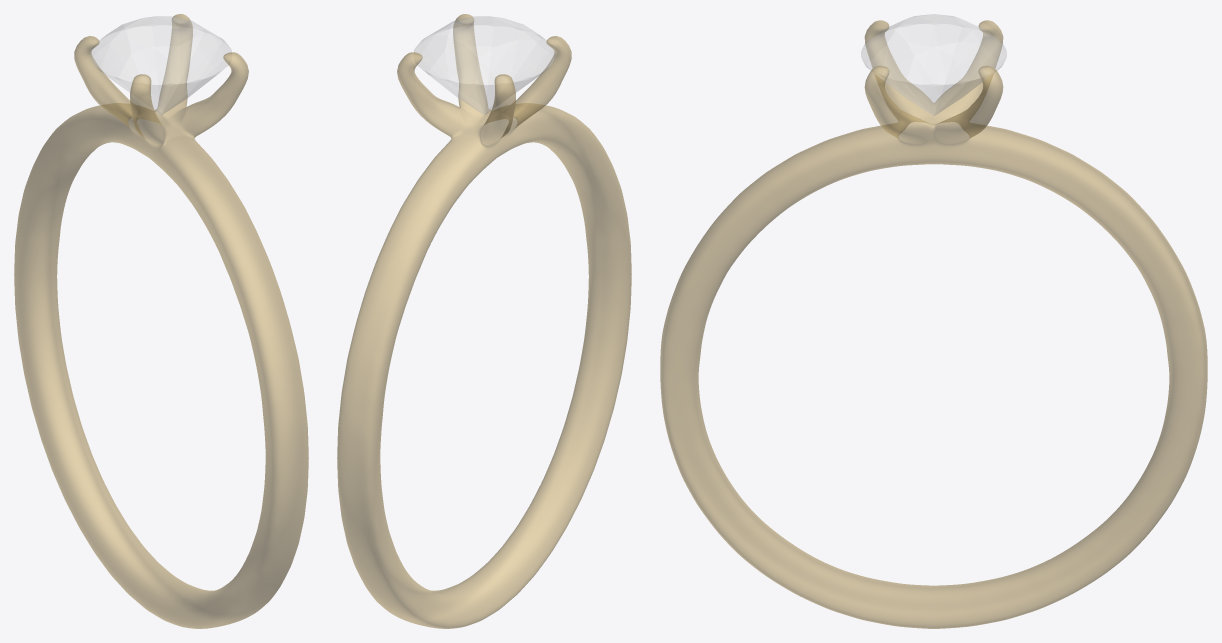
The picture shows the model from 3 angles, left to right: view 1: azimuth 30°, elevation 25°; view 2: azimuth 150°, elevation 25°; view 3: azimuth 270°, elevation 25°; orthographic projection. The views are drawn at different scales.
Parts seen in each view (by area): view 1: Ring, Diamond; view 2: Ring, Diamond; view 3: Ring, Diamond.
Boxes of the visible parts, x1,y1,x2,y2 form: Ring: (14,14,308,628); Diamond: (91,16,231,114); Ring: (337,14,631,628); Diamond: (414,16,554,114); Ring: (660,20,1207,628); Diamond: (861,14,1006,115).
Bounding box in the file's own units: 0.6116 × 2.74 × 2.29.
